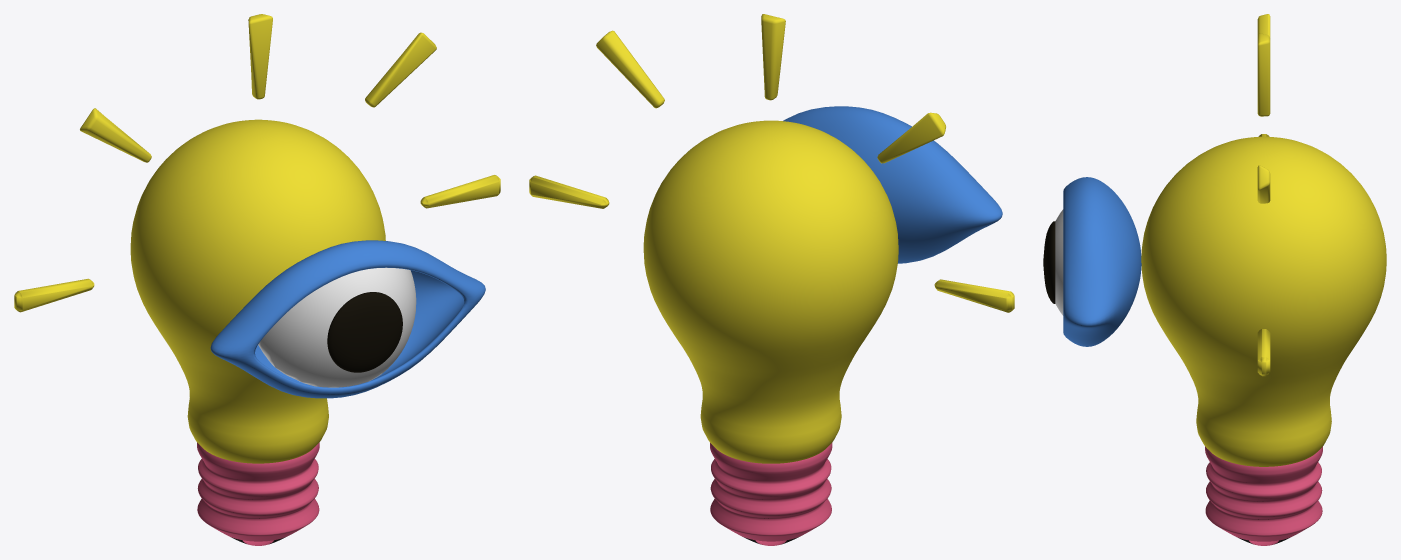
The model's file is vision-3d-animated-icon-139814662156.glb.
The picture shows the model from 3 angles, left to right: view 1: azimuth 30°, elevation 25°; view 2: azimuth 150°, elevation 25°; view 3: azimuth 270°, elevation 25°; orthographic projection. The views are drawn at different scales.
Visible parts, largest first — view 1: Sphere.035, Sphere.038, Sphere.034, Sphere.037, Cube.092, Sphere.036; view 2: Sphere.035, Sphere.038, Sphere.034, Cube.092; view 3: Sphere.035, Sphere.038, Sphere.034, Cube.092, Sphere.037, Sphere.036.
Boxes of the visible parts, left/top/right/bottom form: Sphere.035: left=130, top=119, right=385, bottom=463; Sphere.038: left=210, top=240, right=485, bottom=398; Sphere.034: left=197, top=442, right=319, bottom=545; Sphere.037: left=258, top=267, right=416, bottom=387; Cube.092: left=14, top=14, right=500, bottom=312; Sphere.036: left=327, top=292, right=402, bottom=372; Sphere.035: left=643, top=120, right=898, bottom=463; Sphere.038: left=783, top=106, right=1002, bottom=263; Sphere.034: left=710, top=443, right=832, bottom=545; Cube.092: left=529, top=14, right=1014, bottom=312; Sphere.035: left=1141, top=136, right=1386, bottom=466; Sphere.038: left=1063, top=177, right=1141, bottom=346; Sphere.034: left=1205, top=446, right=1322, bottom=545; Cube.092: left=1257, top=14, right=1270, bottom=376; Sphere.037: left=1055, top=209, right=1063, bottom=315; Sphere.036: left=1043, top=221, right=1055, bottom=303.
Size of the model in its own units: 8.68 by 9.01 by 5.56.
